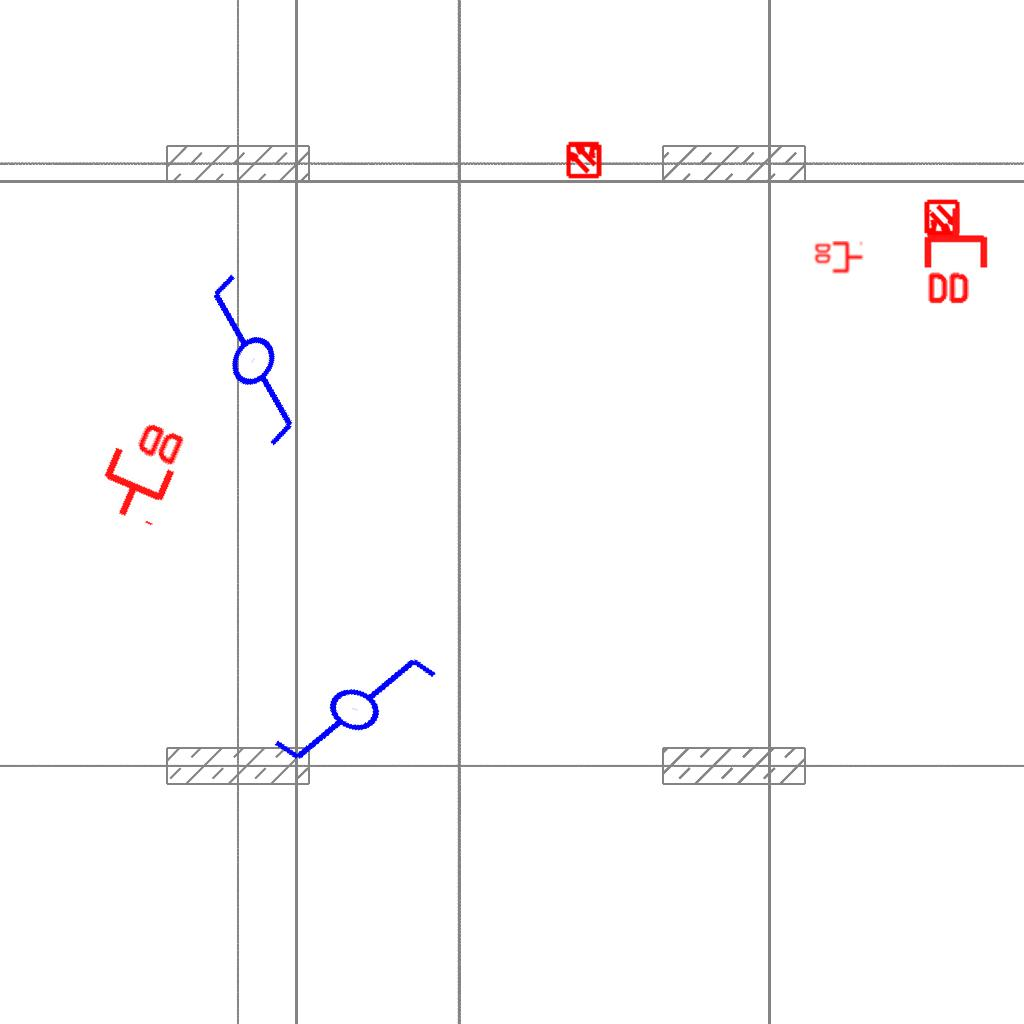Datenanschluss_zweifach: (87, 408, 192, 531), (923, 205, 992, 308), (813, 241, 864, 275)
OT_Multisensormelder_(Kombination_RMO_WMD): (914, 191, 970, 247), (556, 131, 612, 187)
Wechselschalter: (147, 263, 348, 471), (250, 612, 445, 798)
